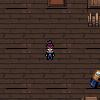Hide: (83, 11, 100, 28)
Victim: (43, 39, 56, 61)
Win: (87, 67, 100, 89)
